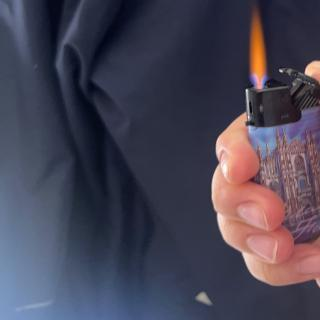fire: (243, 7, 271, 85)
